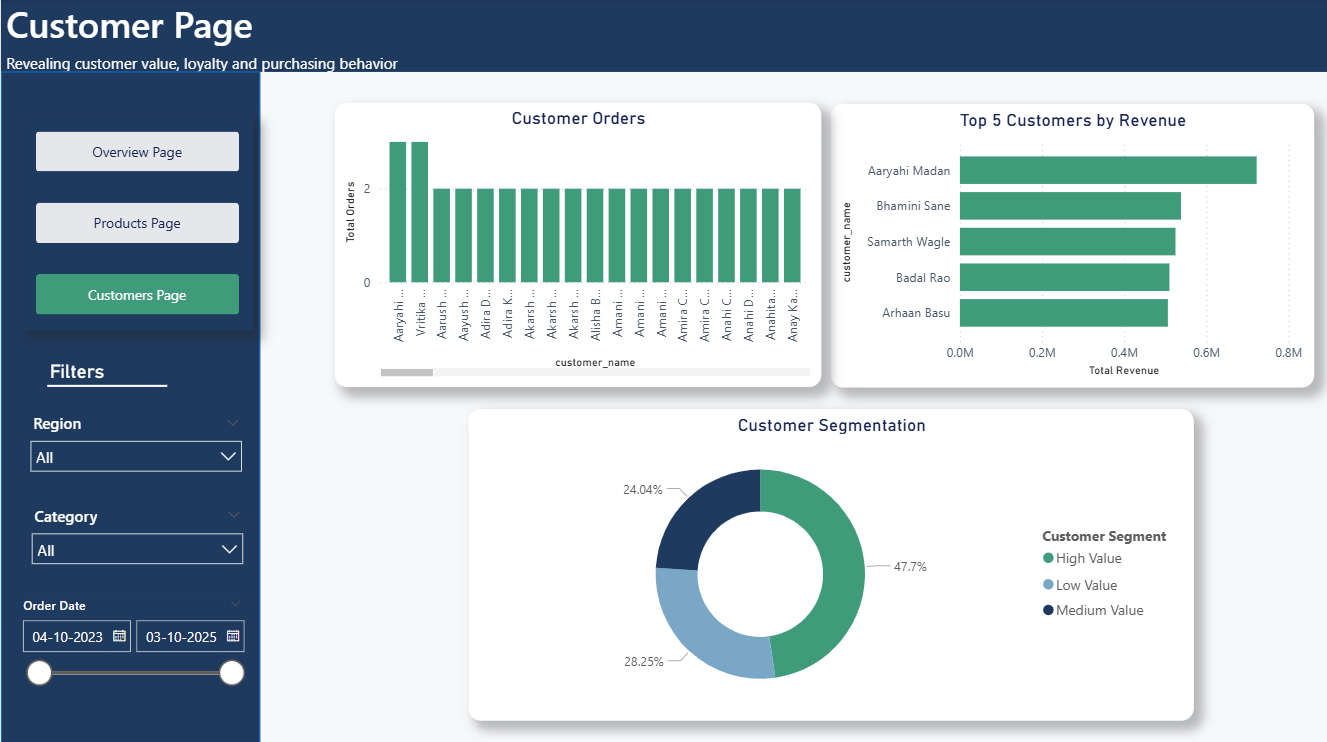

The dashboard page shown, as its layout file describes it:
{"tool":"powerbi","page":{"name":"Customers Page","canvas":[1280,720],"ordinal":2},"visuals":[{"type":"clusteredBarChart","title":"Top 5 Customers by Revenue","fields":{"Category":["ecommerce_sales.customer_name"],"Y":["ecommerce_sales.Total Revenue"]},"box":[801.1,101.3,466,273.9],"z":0},{"type":"clusteredColumnChart","title":"Customer Orders","fields":{"Category":["ecommerce_sales.customer_name"],"Y":["ecommerce_sales.Total Orders"]},"box":[322.5,100.2,469.3,274.4],"z":1000},{"type":"donutChart","title":"Customer Segmentation ","fields":{"Category":["ecommerce_sales.Customer Segment"],"Y":["ecommerce_sales.Customer Count"]},"box":[451.2,395.7,700,300.4],"z":2000},{"type":"textbox","title":"Customer Page","box":[0,0,1280,70],"z":3000},{"type":"shape","box":[0,70,250,650.3],"z":4000},{"type":"slicer","title":"Region","fields":{"Values":["ecommerce_sales.region"]},"box":[18.1,394.5,224.4,79.6],"z":5000},{"type":"slicer","fields":{"Values":["ecommerce_sales.category"]},"box":[19.3,483.8,224.4,77.2],"z":6000},{"type":"pageNavigator","box":[19.3,113.4,224.4,206.3],"z":7000},{"type":"textbox","title":"Filters","box":[42.2,348.7,200.3,25.3],"z":8000},{"type":"shape","box":[44.6,361.9,115.8,22.9],"z":9000},{"type":"slicer","fields":{"Values":["ecommerce_sales.order_date"]},"box":[8.4,571.9,235.3,105],"z":10000}]}

Visuals, with their boxes in screenshot pixels (x1, y1, x2, y2), scaled from the page's 1280x720 canvas onto the 1327x742 screenshot:
"Top 5 Customers by Revenue" clusteredBarChart: crop(831, 104, 1314, 387)
"Customer Orders" clusteredColumnChart: crop(334, 103, 821, 386)
"Customer Segmentation " donutChart: crop(468, 408, 1193, 717)
"Customer Page" textbox: crop(0, 0, 1326, 72)
shape: crop(0, 72, 259, 741)
"Region" slicer: crop(19, 407, 251, 489)
slicer - ecommerce_sales.category: crop(20, 499, 253, 578)
pageNavigator: crop(20, 117, 253, 329)
"Filters" textbox: crop(44, 359, 251, 385)
shape: crop(46, 373, 166, 397)
slicer - ecommerce_sales.order_date: crop(9, 589, 253, 698)
